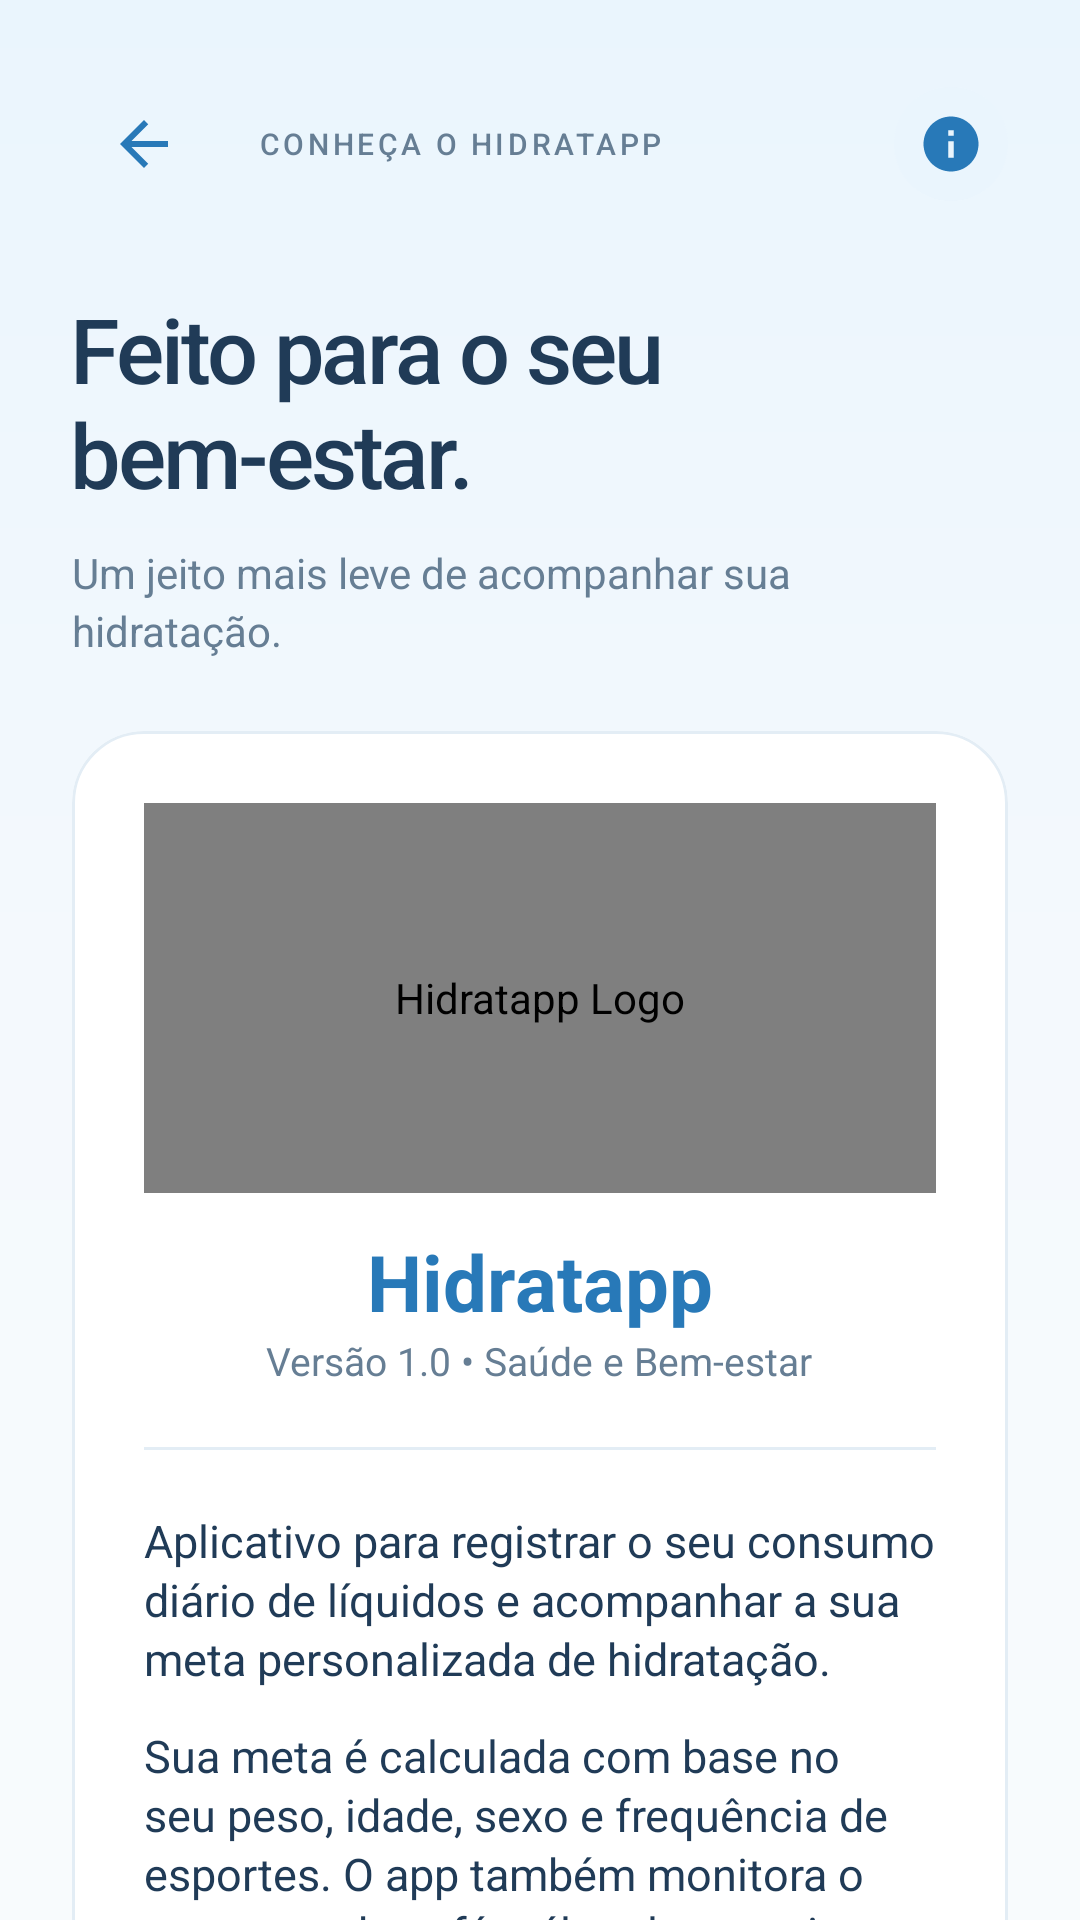

Icon bounding boxes for this 1080×1920 phone screenshot, format (x1, y1, x2, y2):
info: (923, 116, 979, 172)
Voltar: (120, 120, 168, 168)
